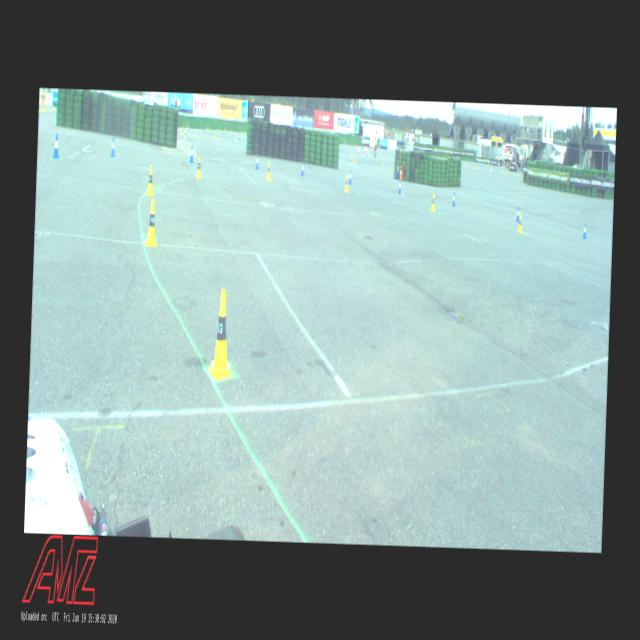blue_cone: (52, 134, 59, 158), (110, 135, 116, 156), (189, 144, 194, 162), (582, 222, 587, 238), (300, 160, 304, 177), (255, 152, 259, 168), (516, 206, 520, 222), (348, 169, 352, 184), (452, 192, 456, 206), (398, 179, 400, 193), (396, 163, 398, 173), (238, 133, 240, 140), (178, 127, 180, 133), (216, 127, 218, 133), (233, 130, 235, 136), (340, 144, 342, 150), (198, 128, 199, 136), (188, 124, 189, 131), (204, 125, 205, 132), (347, 148, 348, 155), (387, 151, 388, 158), (350, 146, 351, 152), (362, 148, 363, 154), (366, 150, 367, 156), (393, 152, 394, 157), (479, 160, 480, 165), (461, 161, 462, 165), (468, 160, 469, 164), (481, 163, 482, 167), (483, 160, 484, 164), (472, 161, 472, 166)
large_orange_cone: (356, 144, 358, 153), (365, 144, 367, 152), (358, 144, 359, 154), (364, 144, 365, 152)
orange_cone: (185, 128, 186, 134), (351, 156, 352, 162)
yellow_cone: (208, 288, 235, 378), (146, 198, 158, 246), (146, 164, 155, 195), (196, 154, 202, 178), (430, 192, 435, 212), (517, 214, 522, 232), (344, 175, 349, 192), (266, 160, 270, 180), (399, 164, 402, 174), (183, 130, 186, 138), (214, 130, 217, 138), (235, 134, 238, 140), (217, 132, 219, 140), (43, 102, 45, 110), (38, 104, 40, 112), (41, 103, 43, 111), (516, 170, 518, 177), (45, 104, 47, 111), (53, 103, 55, 110), (180, 128, 182, 134), (240, 130, 242, 136), (464, 161, 466, 166), (197, 129, 198, 137), (343, 138, 344, 146), (354, 142, 356, 146), (354, 156, 355, 163), (50, 104, 51, 111), (490, 164, 491, 171), (382, 157, 383, 164), (351, 150, 352, 156), (186, 124, 187, 130), (206, 124, 207, 130), (243, 127, 244, 133), (472, 163, 473, 168), (224, 126, 225, 131), (230, 129, 231, 134), (368, 152, 369, 156), (477, 164, 478, 168), (502, 168, 502, 173), (506, 170, 506, 173), (220, 126, 220, 132), (380, 148, 380, 154), (208, 124, 208, 130), (350, 144, 350, 150), (386, 152, 386, 160), (394, 150, 394, 156)
